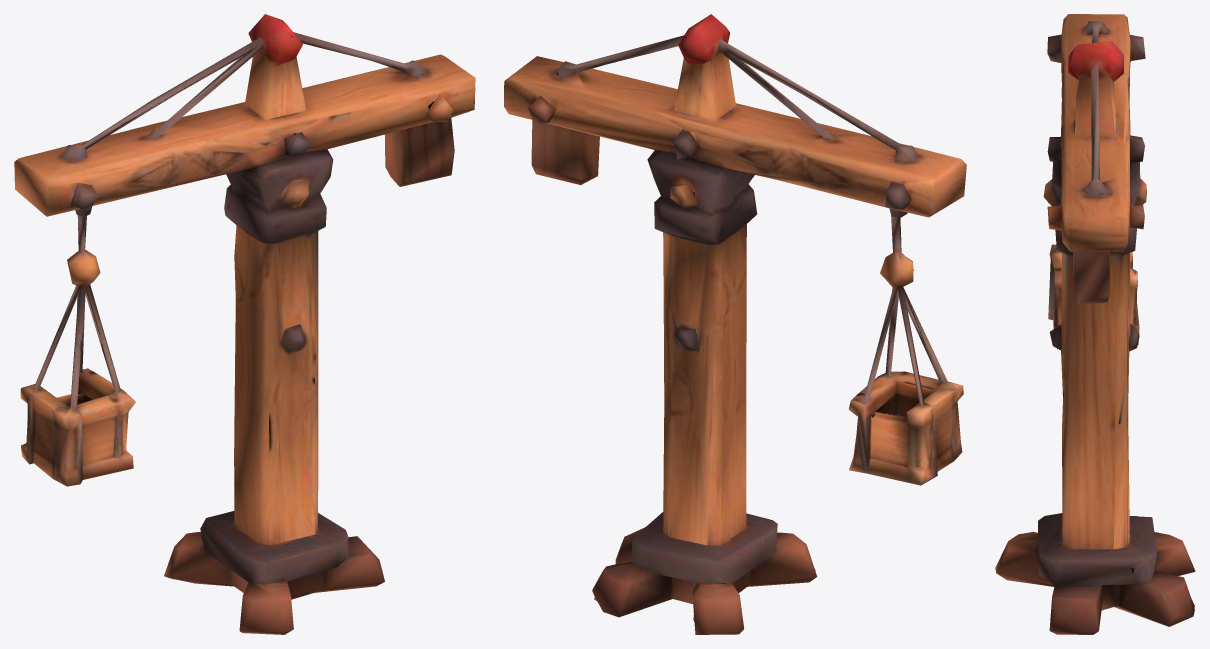
The model's file is lg-crane.glb.
3 renders of one model, left to right at view 1: azimuth 30°, elevation 25°; view 2: azimuth 150°, elevation 25°; view 3: azimuth 270°, elevation 25°, orthographic. The views are drawn at different scales.
Parts seen in each view (by area): view 1: geometry_0; view 2: geometry_0; view 3: geometry_0.
Boxes of the visible parts, <box> form: geometry_0: <box>14,14,475,634</box>; geometry_0: <box>504,14,966,634</box>; geometry_0: <box>995,14,1195,634</box>.
Bounding box in the file's own units: 0.786 × 1 × 0.3265.
1 material, 1 textured.
